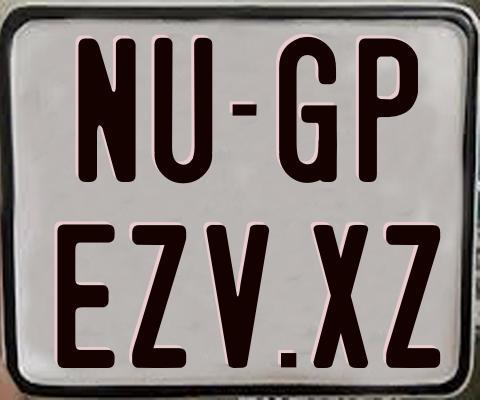E: (57, 221, 121, 368)
G: (279, 37, 340, 183)
N: (76, 35, 139, 183)
P: (357, 38, 416, 185)
U: (152, 38, 215, 187)
V: (203, 222, 272, 366)
X: (313, 223, 370, 371)
Z: (384, 224, 442, 369), (129, 223, 183, 370)
